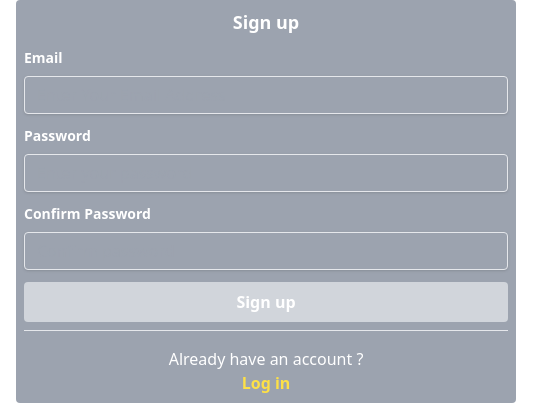
Test case: User Authentication › renders Log in as a form submit button when an existing user visits the page
The width and height of the screenshot is (533, 420).
Click the button "Log in" at (266, 383), box [242,371,290,395]
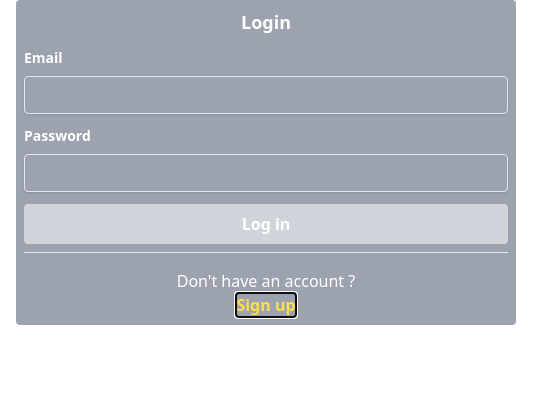
Expected: the field labelled "Email" is shown, [24,76,508,114]
Now the button "Log in" is shown, box [24,204,508,244]
Now the button "Sign up" is shown, box [236,293,296,317]
